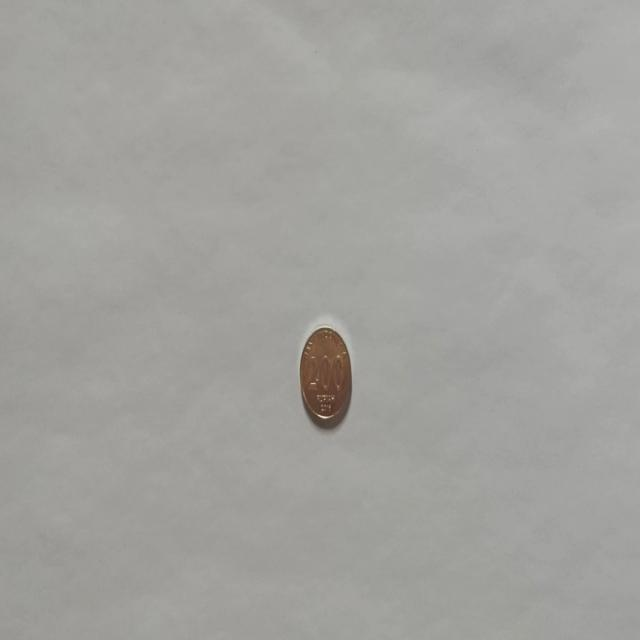dua ratus rupiah: (298, 324, 352, 426)
